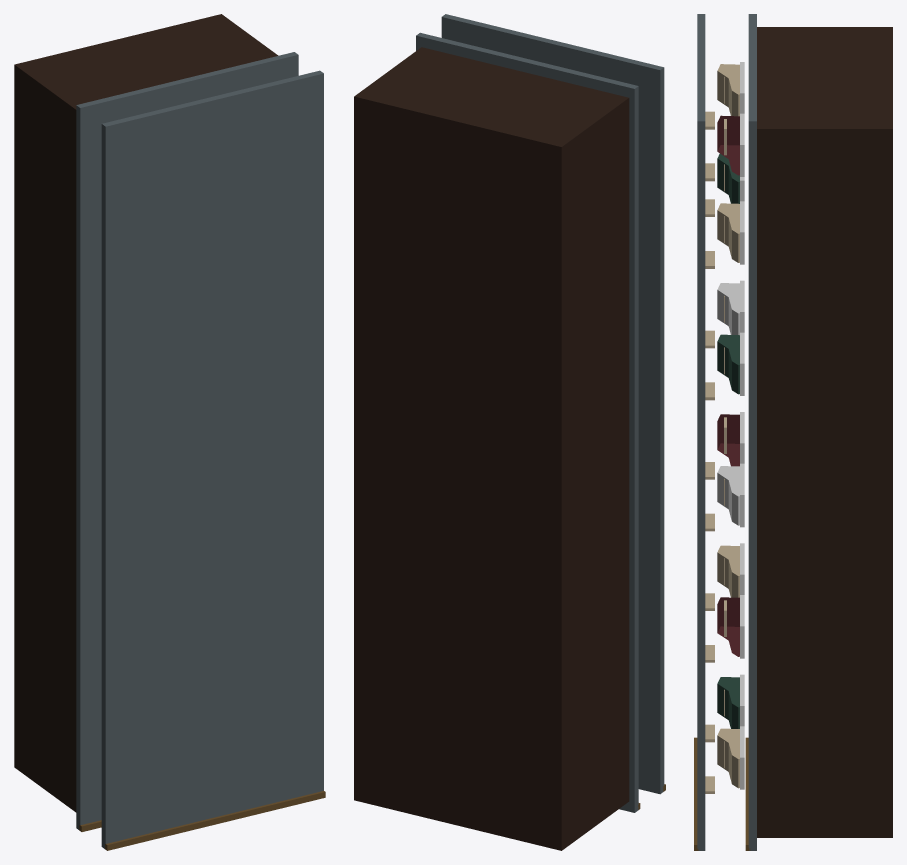
File: SM_BSW_Department_ShoeDisplay_Long_B.obj
3 renders of one model, left to right at view 1: azimuth 30°, elevation 25°; view 2: azimuth 150°, elevation 25°; view 3: azimuth 270°, elevation 25°, orthographic.
Parts seen in each view (by area): view 1: SM_BSW_Department_ShoeDisplay_Long_B; view 2: SM_BSW_Department_ShoeDisplay_Long_B; view 3: SM_BSW_Department_ShoeDisplay_Long_B.
Part boxes in pixels (bbox=[...]): SM_BSW_Department_ShoeDisplay_Long_B: bbox=[14, 14, 325, 850]; SM_BSW_Department_ShoeDisplay_Long_B: bbox=[354, 14, 665, 850]; SM_BSW_Department_ShoeDisplay_Long_B: bbox=[694, 14, 892, 850].
Bounding box in the file's own units: 158 × 500 × 124.
